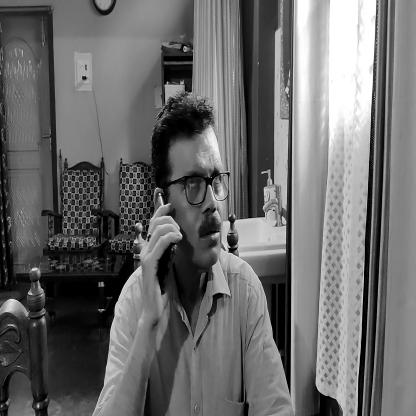Distracted: (178, 112, 231, 272)
